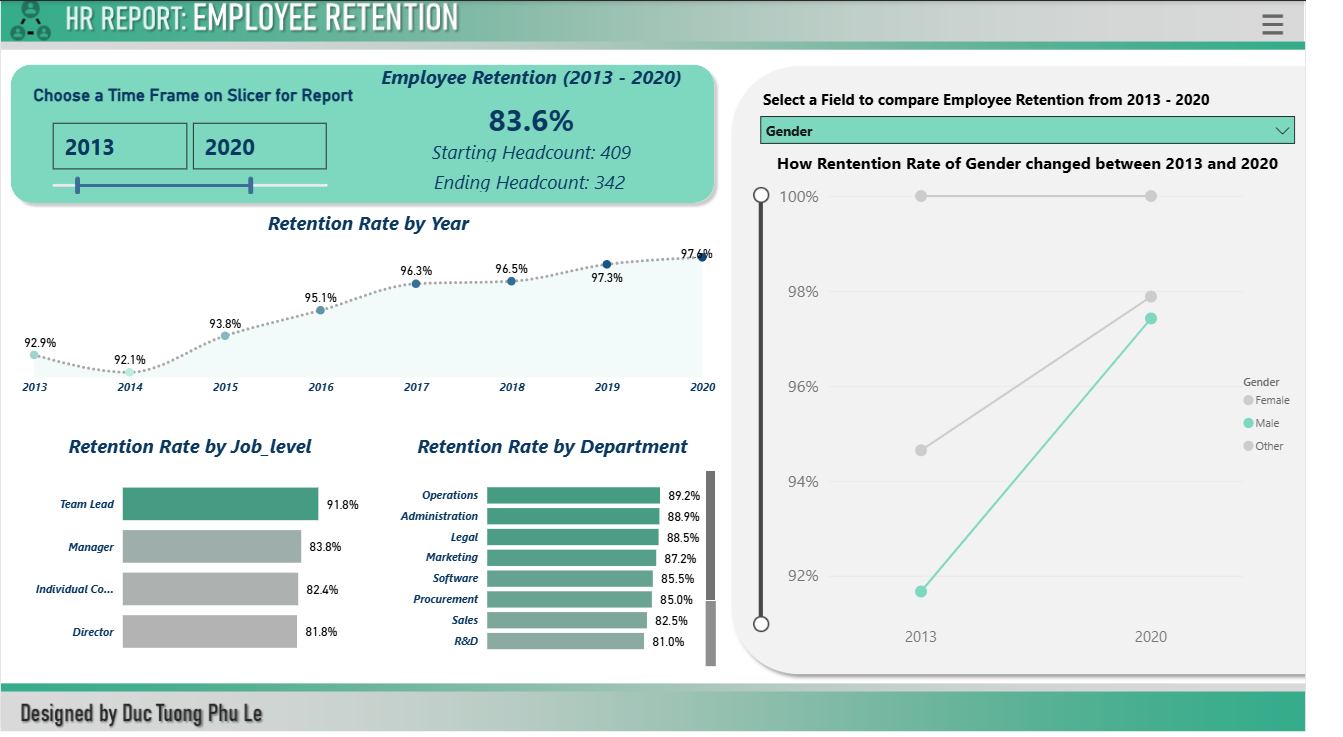

Layout of this report page (visuals, bound fields, positions):
{"tool":"powerbi","page":{"name":"Retention","canvas":[1280,720],"ordinal":2},"visuals":[{"type":"shape","box":[2.3,54.7,704.7,150],"z":0},{"type":"lineChart","fields":{"Category":["Dates.Year"],"Y":["Measure.Retention Rate"]},"box":[15.1,204.7,691.9,191.9],"z":1000},{"type":"clusteredBarChart","fields":{"Category":["Level_Dim.Job_level"],"Y":["Measure.Retention Rate"]},"box":[15.1,423.3,341.9,234.9],"z":2000},{"type":"clusteredBarChart","fields":{"Category":["Department_Dim.Department"],"Y":["Measure.Retention Rate"]},"box":[375.6,423.3,331.4,234.9],"z":3000},{"type":"slicer","fields":{"Values":["Parameter.Parameter"]},"box":[734.9,80.5,545.1,99.7],"z":4000},{"type":"cardVisual","fields":{"Data":["Measure.Retention Rate"]},"box":[354.7,61.6,332.6,76.7],"z":5000},{"type":"lineChart","fields":{"Category":["Dates.Year"],"Series":["Dimography_Dim.Age (Group)"],"Y":["Measure.Min Max Retention"]},"box":[730.2,153.5,545.4,497.7],"z":6000},{"type":"cardVisual","fields":{"Data":["Measure.Starting Headcount Text"]},"box":[393,123.3,257,40.8],"z":7000},{"type":"cardVisual","fields":{"Data":["Measure.Ending Headcount text"]},"box":[384.9,153.5,267.4,39.5],"z":8000},{"type":"slicer","fields":{"Values":["Dates.Year"]},"box":[38.4,109.3,295.7,87.1],"z":9000},{"type":"textbox","box":[26.7,76.7,348.8,46.5],"z":10000},{"type":"cardVisual","fields":{"Data":["Measure.Remaining Headcount"]},"box":[757,219.8,294.2,119.8],"z":11000},{"type":"actionButton","box":[1217.3,0,62.3,43.3],"z":12000},{"type":"group","id":"g1","title":"Slicer","box":[999.5,59.6,280.5,623.4],"z":13000}]}

Visuals, with their boxes in screenshot pixels (x1, y1, x2, y2), scaled from the page's 1280x720 canvas onto the 1343x737 screenshot:
shape: bbox=[2, 56, 742, 210]
lineChart - Dates.Year x Measure.Retention Rate: bbox=[16, 210, 742, 406]
clusteredBarChart - Level_Dim.Job_level x Measure.Retention Rate: bbox=[16, 433, 375, 674]
clusteredBarChart - Department_Dim.Department x Measure.Retention Rate: bbox=[394, 433, 742, 674]
slicer - Parameter.Parameter: bbox=[771, 82, 1342, 184]
cardVisual - Measure.Retention Rate: bbox=[372, 63, 721, 142]
lineChart - Dates.Year x Dimography_Dim.Age (Group): bbox=[766, 157, 1338, 667]
cardVisual - Measure.Starting Headcount Text: bbox=[412, 126, 682, 168]
cardVisual - Measure.Ending Headcount text: bbox=[404, 157, 684, 198]
slicer - Dates.Year: bbox=[40, 112, 351, 201]
textbox: bbox=[28, 79, 394, 126]
cardVisual - Measure.Remaining Headcount: bbox=[794, 225, 1103, 348]
actionButton: bbox=[1277, 0, 1342, 44]
"Slicer" group: bbox=[1049, 61, 1342, 699]
